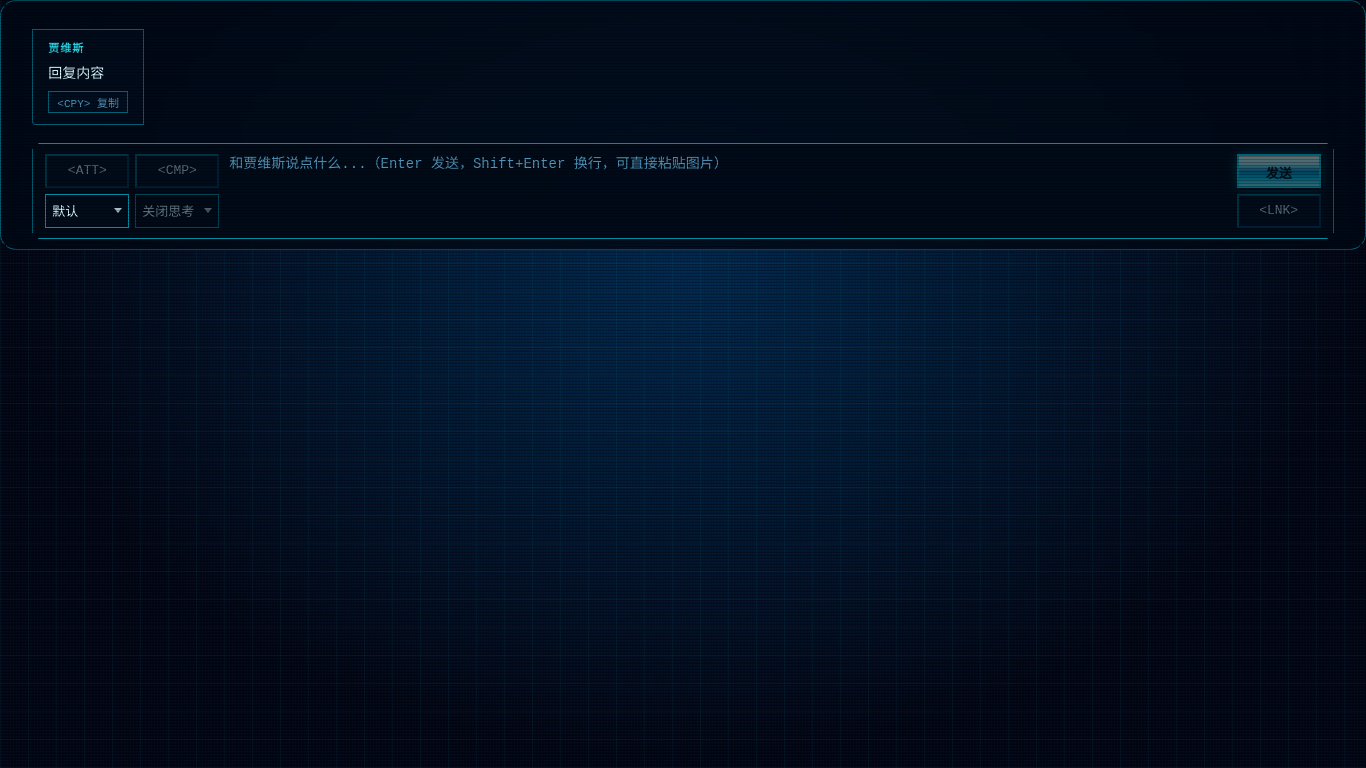
Test: ChatArea › AI 气泡流式结束后渲染复制按钮，点击写入剪贴板并变「已复制」
Click the button with test id "btn-copy-msg" at point(88, 102), box [48,91,128,113]
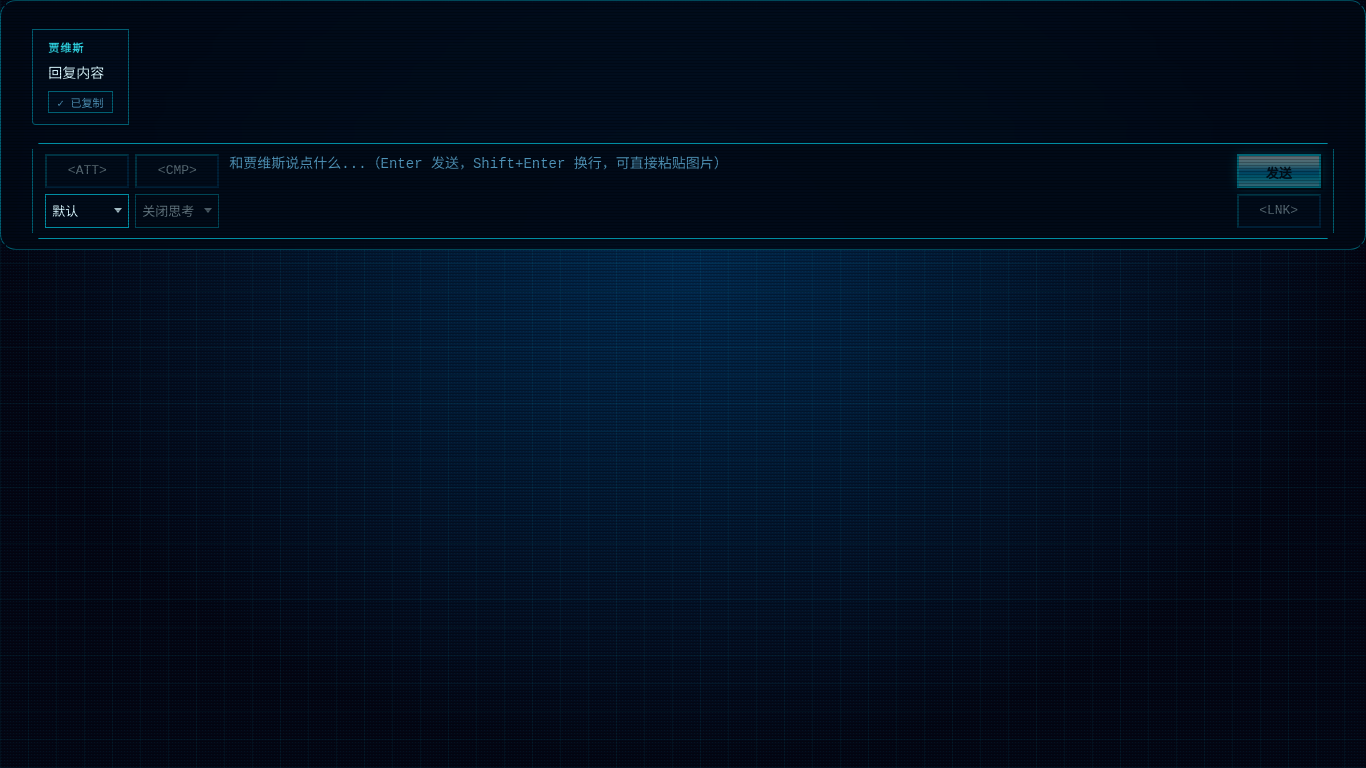
Expected: the button with test id "btn-copy-msg" shows "已复制", [48,91,113,113]
